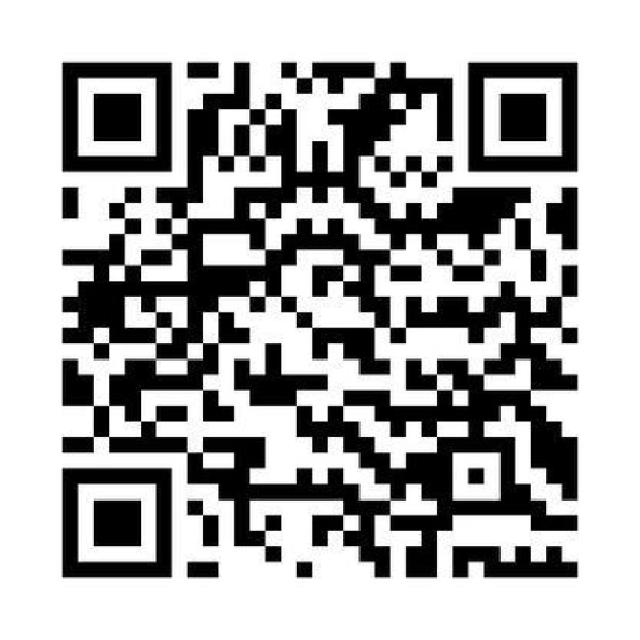QRCode: (37, 44, 609, 600)
